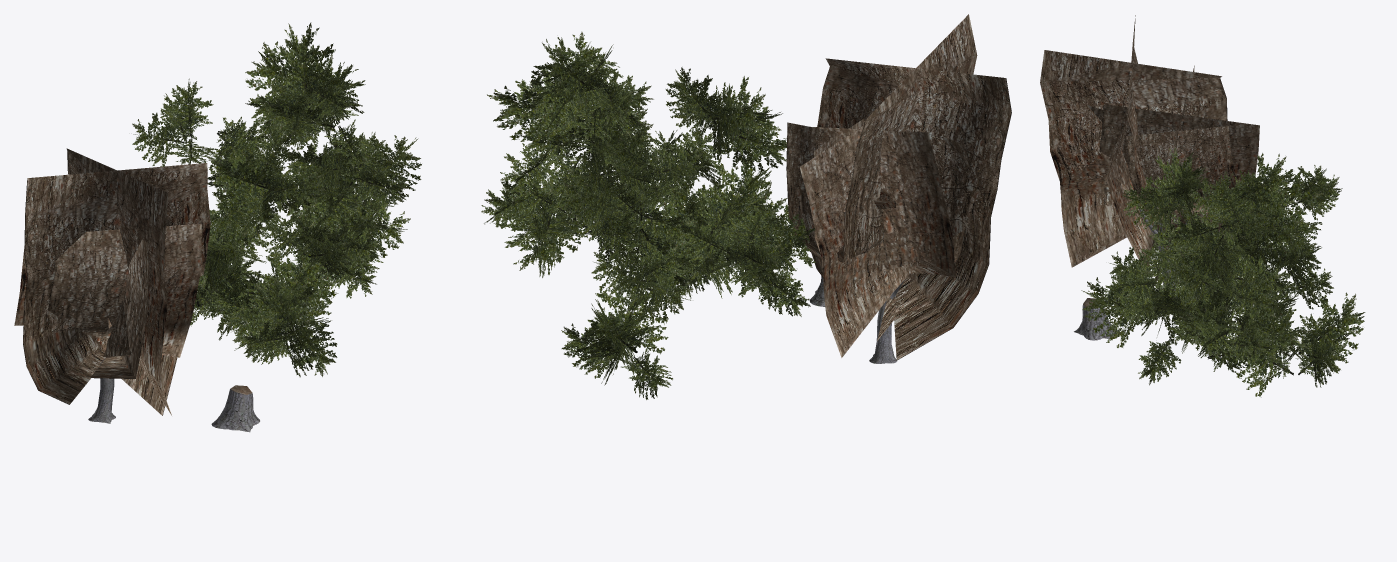
The model's file is Trees.dae.
3 views of the same model, side by side, from view 1: azimuth 30°, elevation 25°; view 2: azimuth 150°, elevation 25°; view 3: azimuth 270°, elevation 25° (orthographic). The views are drawn at different scales.
Parts seen in each view (by area): view 1: Tree, Tree_x0020_12, Tree_x0020_8; view 2: Tree, Tree_x0020_12; view 3: Tree, Tree_x0020_12, Tree_x0020_8.
Boxes of the visible parts, bbox=[...] form: Tree: bbox=[132, 22, 421, 377]; Tree_x0020_12: bbox=[14, 148, 210, 423]; Tree_x0020_8: bbox=[211, 385, 259, 432]; Tree: bbox=[481, 31, 815, 399]; Tree_x0020_12: bbox=[786, 14, 1011, 363]; Tree: bbox=[1081, 147, 1365, 397]; Tree_x0020_12: bbox=[1040, 15, 1259, 298]; Tree_x0020_8: bbox=[1074, 298, 1119, 340].
Size of the model in its own units: 14.42 by 14.97 by 11.02.
